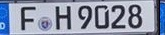character: (55, 5, 71, 30), (94, 4, 109, 29), (111, 4, 126, 29), (20, 6, 35, 30), (78, 4, 92, 29), (128, 4, 142, 29)
